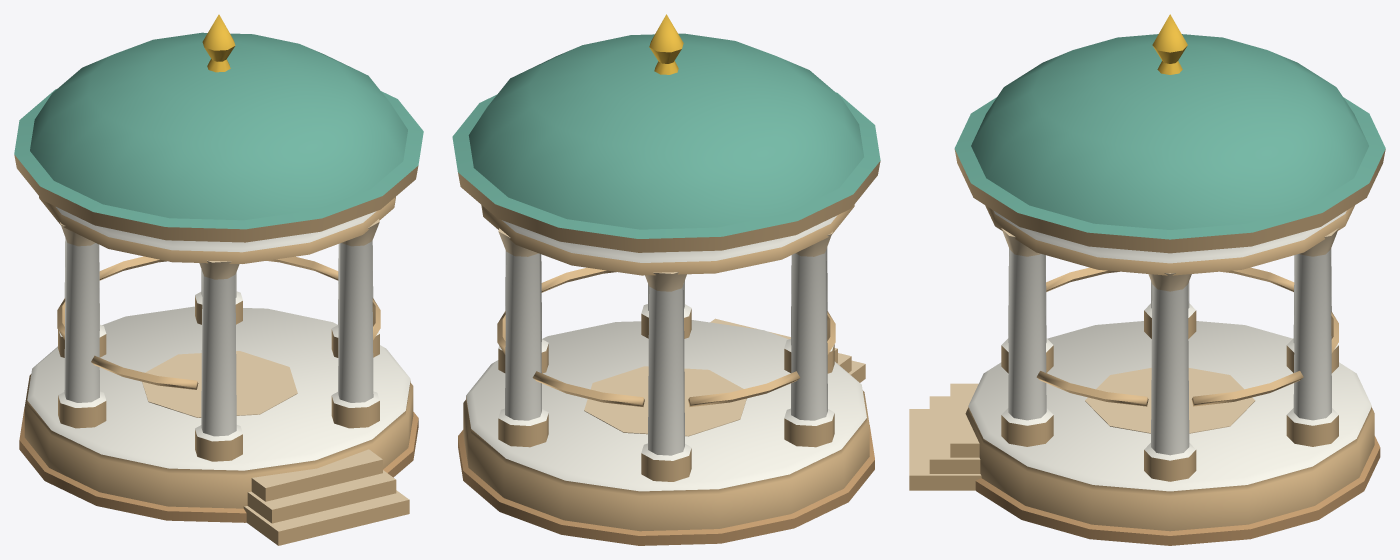
The model's file is bandstand.lod1.glb.
3 views of the same model, side by side, from view 1: azimuth 30°, elevation 25°; view 2: azimuth 150°, elevation 25°; view 3: azimuth 270°, elevation 25° (orthographic). The views are drawn at different scales.
Parts seen in each view (by area): view 1: bandstand_lod1; view 2: bandstand_lod1; view 3: bandstand_lod1.
Boxes of the visible parts, x1=… form: bandstand_lod1: x1=14, y1=14, x2=423, y2=545; bandstand_lod1: x1=452, y1=14, x2=880, y2=545; bandstand_lod1: x1=909, y1=14, x2=1385, y2=545.
Bounding box in the file's own units: 3.14 × 3.56 × 3.47.
